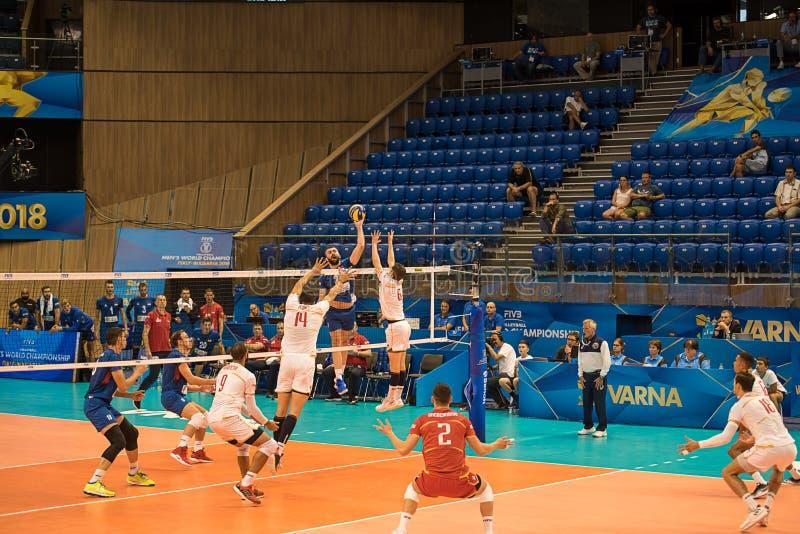ballon_volley: (348, 202, 366, 222)
